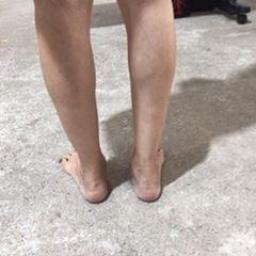Back View -Both Feet-: (51, 108, 173, 208)
